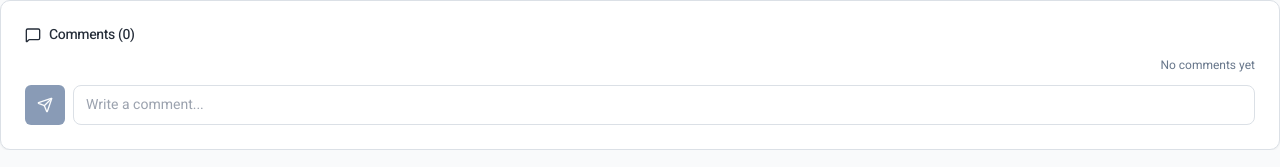
Test: PlanComments › clears input after Enter key press
This screenshot has width=1280, height=167.
Type "Hello" into the field with placeholder "Write a comment..." at (664, 105), box x1=73 y1=85 x2=1255 y2=125
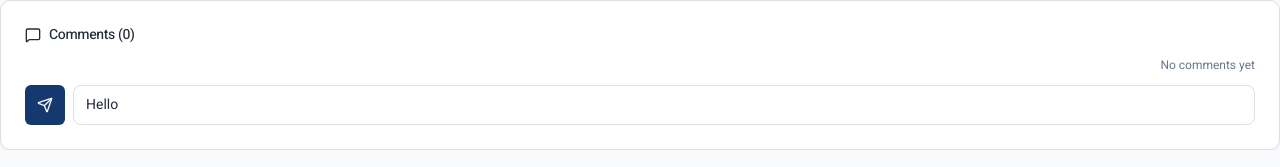
Press Enter in the field with placeholder "Write a comment...", box x1=73 y1=85 x2=1255 y2=125
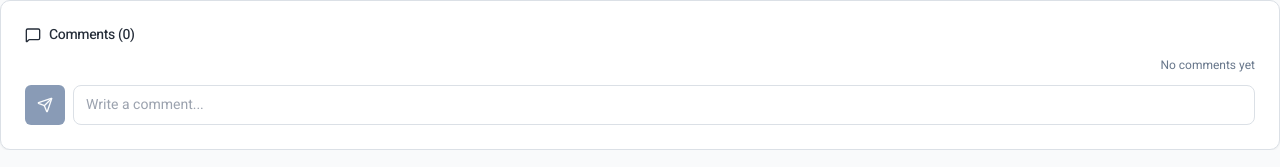
Result: the field with placeholder "Write a comment..." is empty at x1=73 y1=85 x2=1255 y2=125
